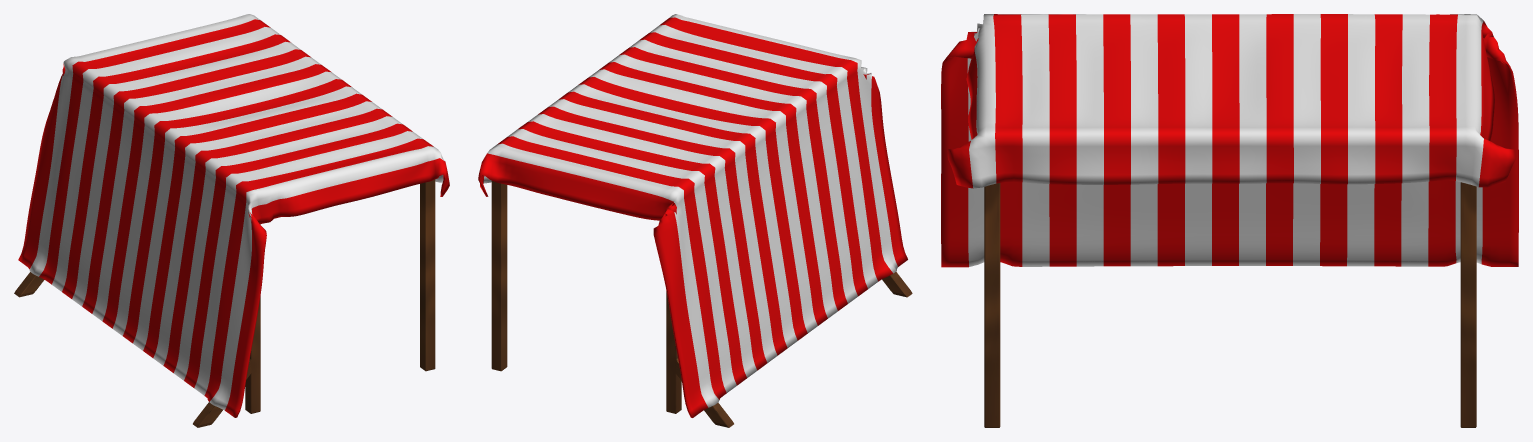
Rendered from Canopy06.glb.
The picture shows the model from 3 angles, left to right: view 1: azimuth 30°, elevation 25°; view 2: azimuth 150°, elevation 25°; view 3: azimuth 270°, elevation 25°; orthographic projection. The views are drawn at different scales.
Parts seen in each view (by area): view 1: canopy6; view 2: canopy6; view 3: canopy6.
Boxes of the visible parts, x1=… form: canopy6: x1=14, y1=14, x2=449, y2=427; canopy6: x1=478, y1=14, x2=912, y2=427; canopy6: x1=941, y1=14, x2=1518, y2=427.
Bounding box in the file's own units: 7.32 × 6.31 × 11.08.
Materials: 3 (1 with a texture image).
